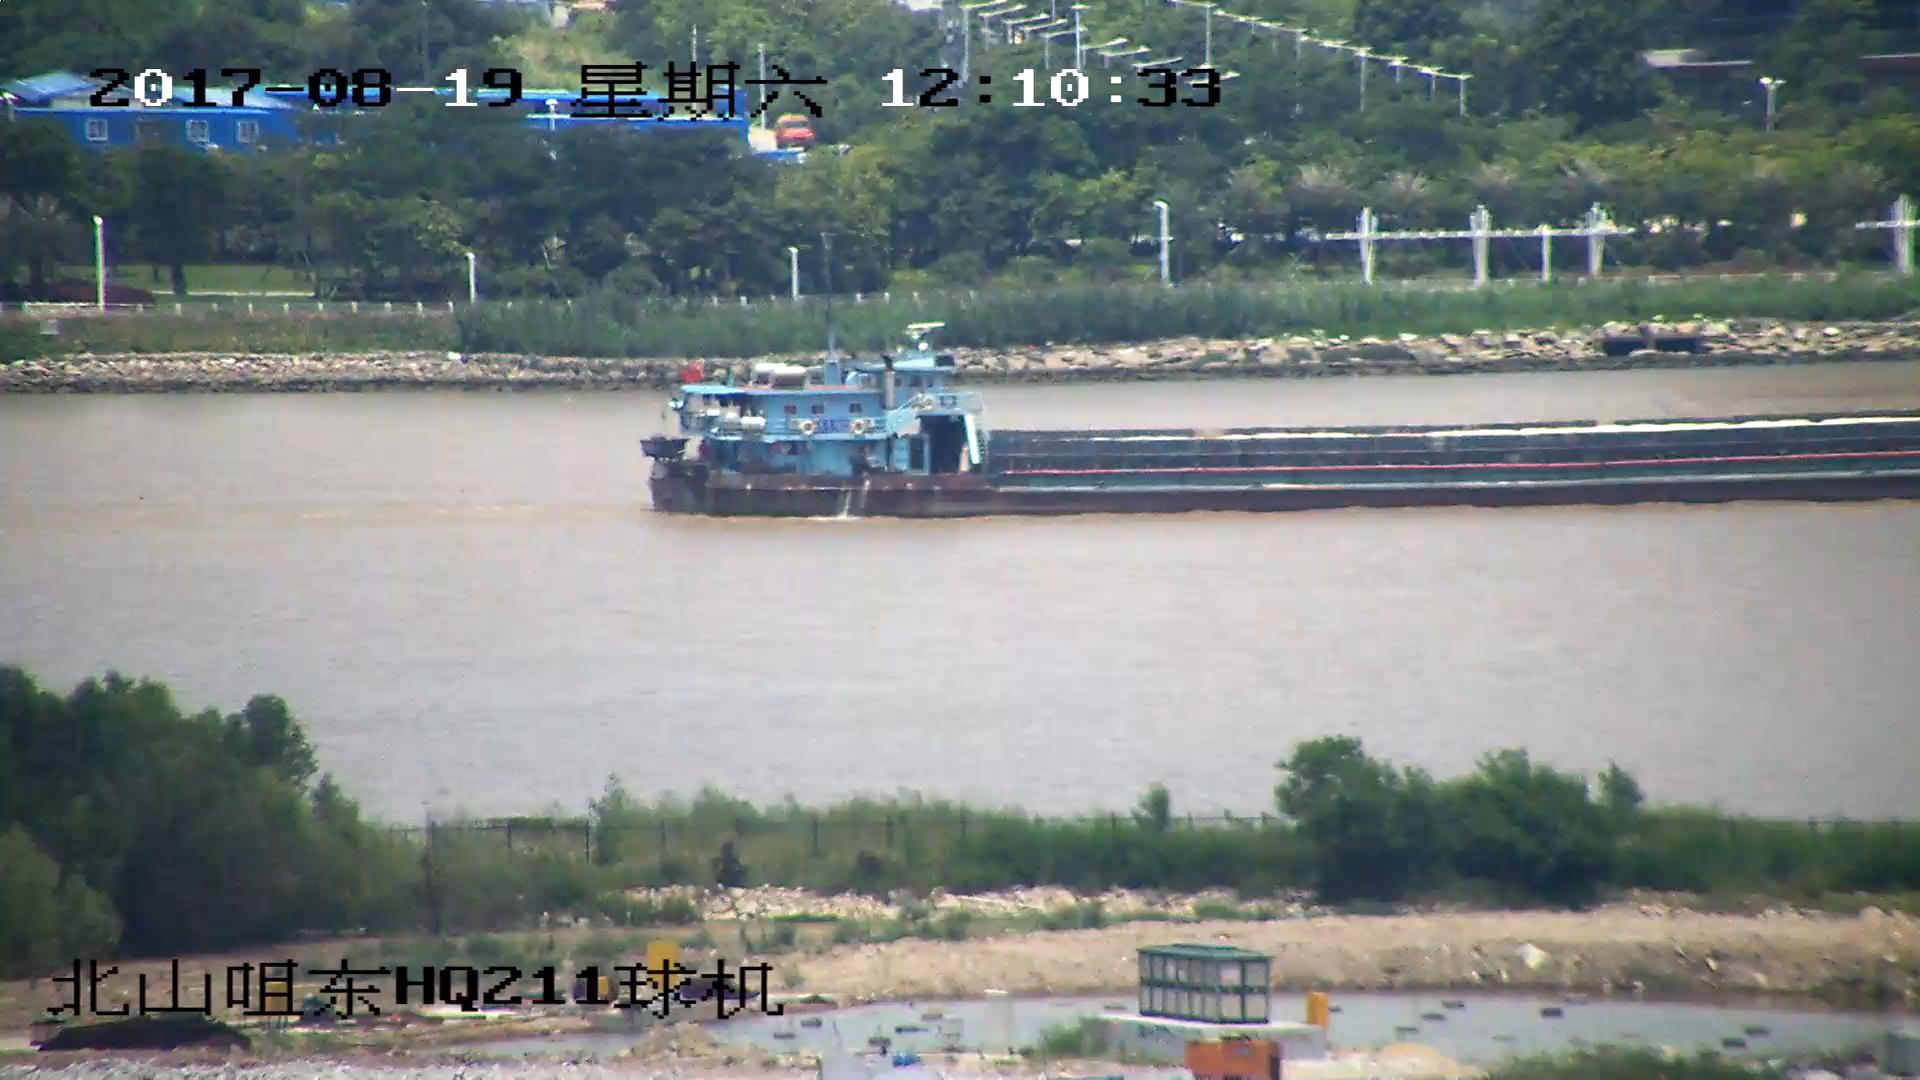bulk cargo carrier: (642, 319, 1920, 520)
